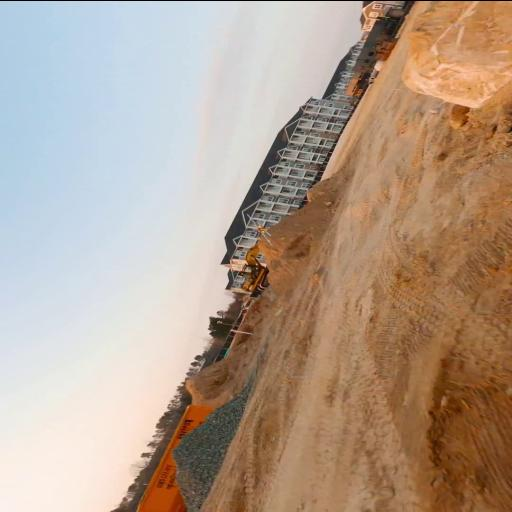uav: (242, 214, 279, 248)
